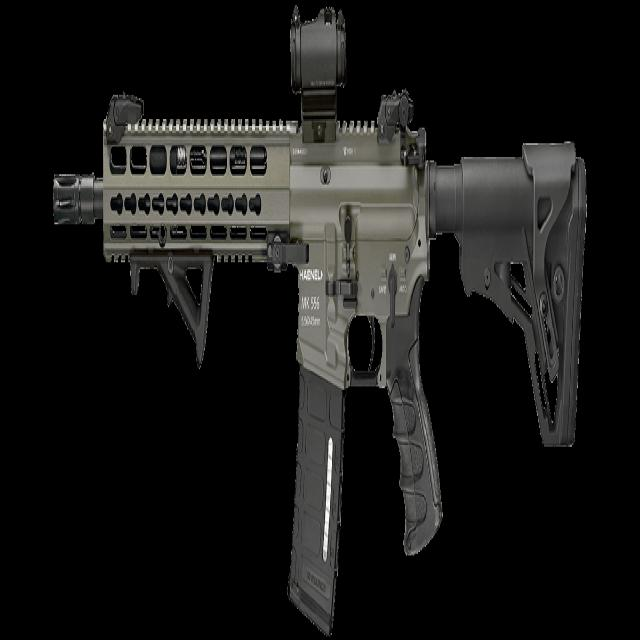Weapon: (50, 1, 606, 640)
